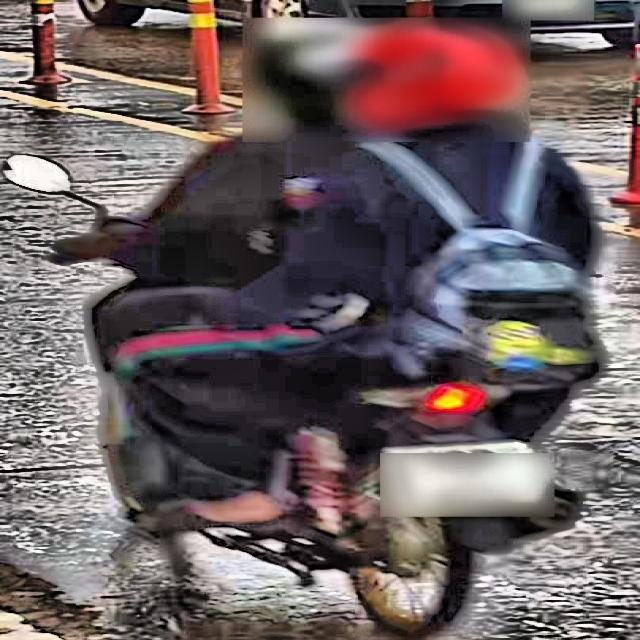motorcycle: (11, 124, 640, 640)
